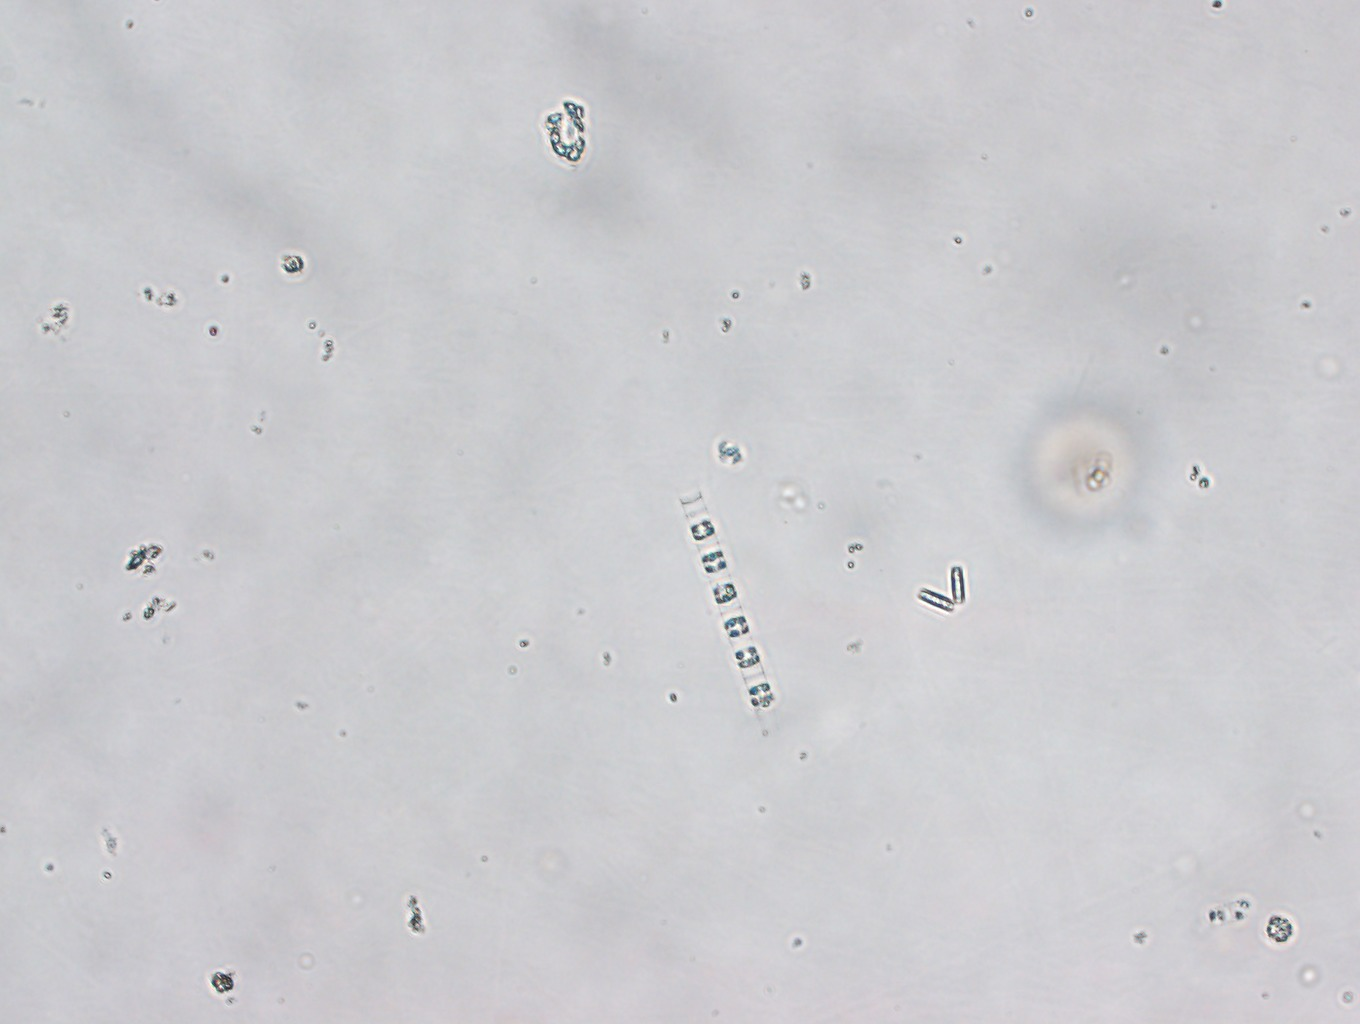skeletonema: (679, 486, 777, 714)
thalassionema nitzschioides: (918, 564, 967, 614)
